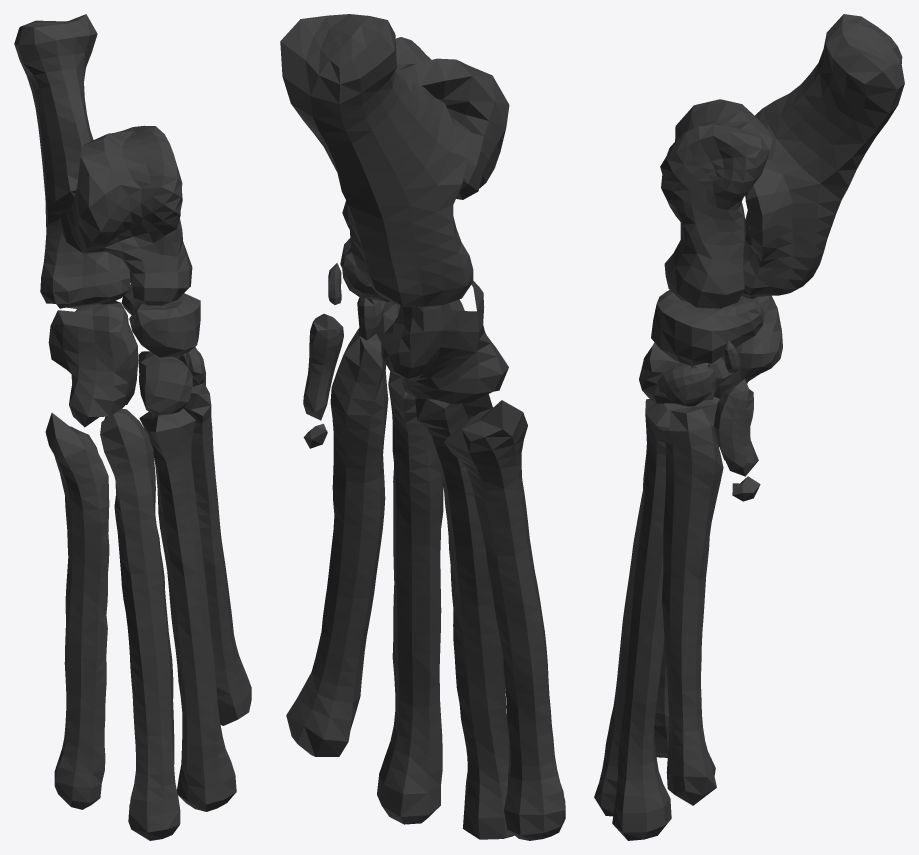
The model's file is Talus_R.glb.
3 views of the same model, side by side, from view 1: azimuth 30°, elevation 25°; view 2: azimuth 150°, elevation 25°; view 3: azimuth 270°, elevation 25° (orthographic). The views are drawn at different scales.
Visible parts, largest first — view 1: Talus_R; view 2: Talus_R; view 3: Talus_R.
Boxes of the visible parts, bbox=[...] form: Talus_R: bbox=[14, 14, 251, 840]; Talus_R: bbox=[280, 14, 565, 840]; Talus_R: bbox=[594, 14, 904, 840].
Bounding box in the file's own units: 2.28 × 7.77 × 2.78.
Materials: 1 (1 with a texture image).
